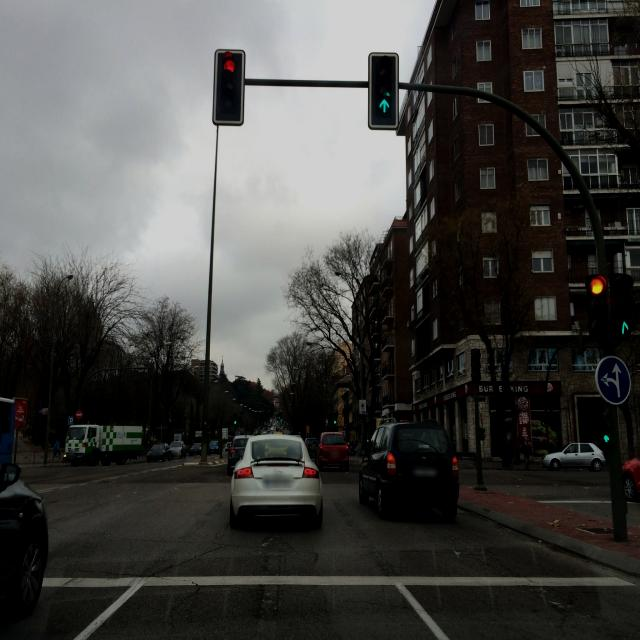car: (0, 410, 49, 628), (358, 419, 460, 521), (229, 434, 323, 528), (541, 442, 606, 472), (315, 431, 350, 472), (621, 440, 640, 506), (227, 435, 252, 476), (146, 443, 172, 462), (170, 441, 187, 459), (305, 437, 318, 453), (208, 440, 220, 455), (190, 442, 202, 456)
